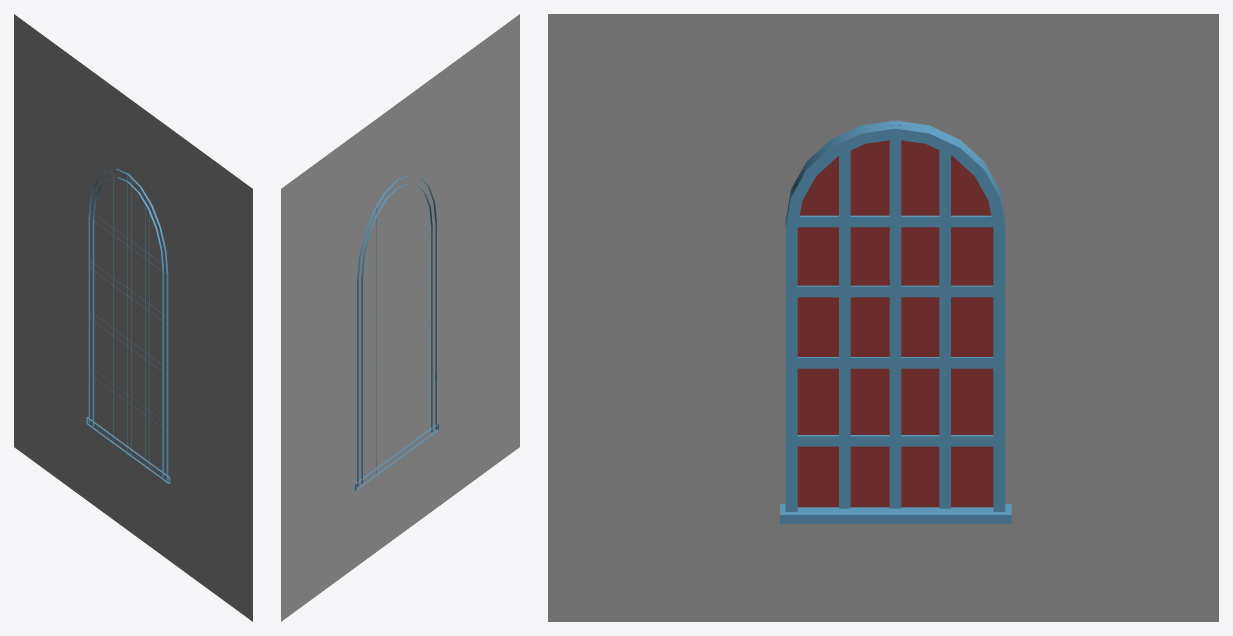
The model's file is Prop_Wallext_9x9_BigWindow_01.fbx.
The picture shows the model from 3 angles, left to right: view 1: azimuth 30°, elevation 25°; view 2: azimuth 150°, elevation 25°; view 3: azimuth 270°, elevation 25°; orthographic projection. The views are drawn at different scales.
Visible parts, largest first — view 1: Prop_Wallext_9x9_BigWindows_03; view 2: Prop_Wallext_9x9_BigWindows_03; view 3: Prop_Wallext_9x9_BigWindows_03.
Part boxes in pixels (bbox=[...]): Prop_Wallext_9x9_BigWindows_03: bbox=[14, 14, 252, 621]; Prop_Wallext_9x9_BigWindows_03: bbox=[281, 14, 519, 621]; Prop_Wallext_9x9_BigWindows_03: bbox=[548, 14, 1218, 621].
Size of the model in its own units: 0.3943 by 9 by 9.
